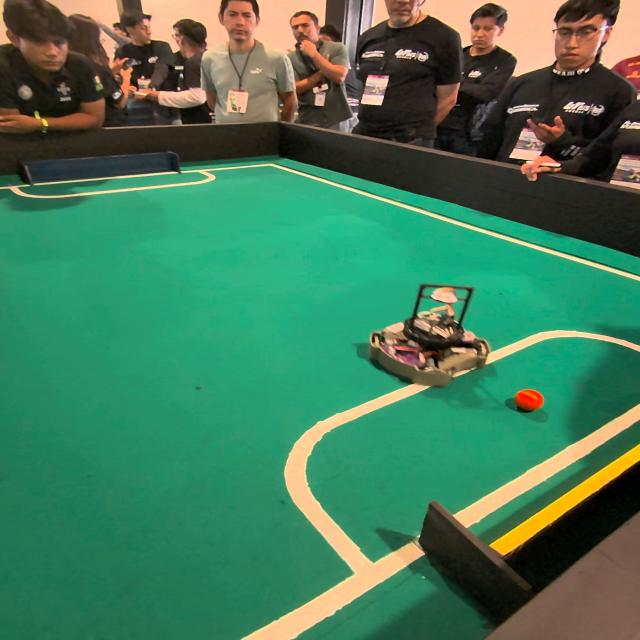Robot: (368, 279, 492, 389)
pelota: (516, 391, 546, 411)
